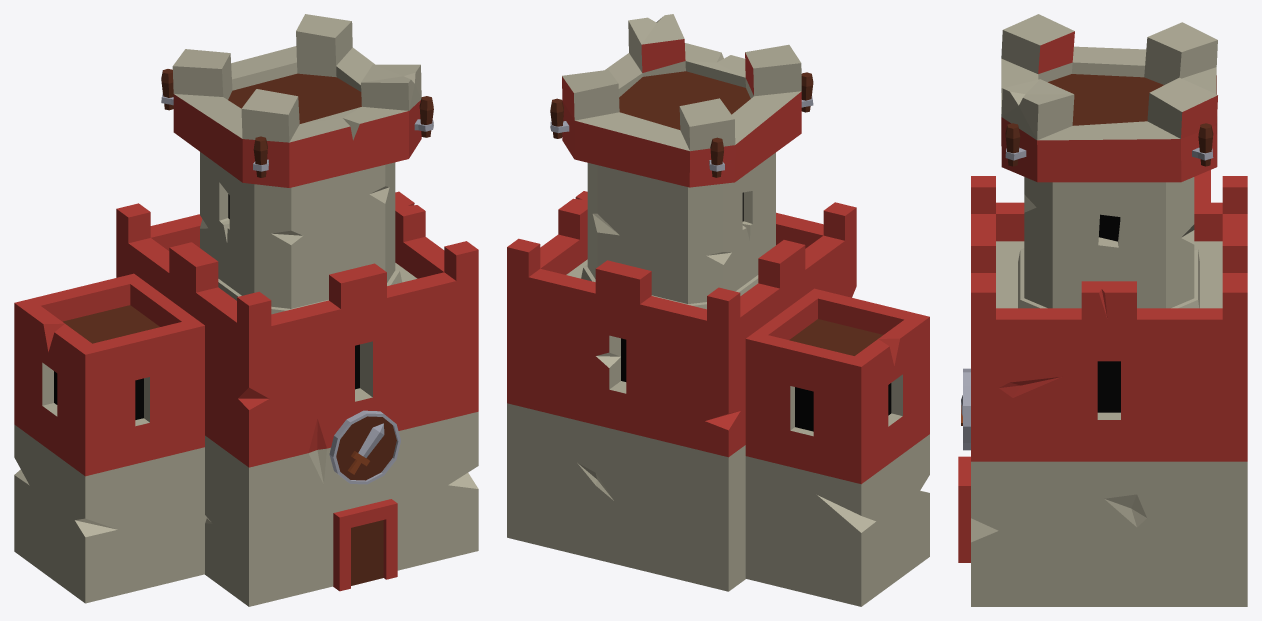
File: Tower_002FBX.fbx
3 renders of one model, left to right at view 1: azimuth 30°, elevation 25°; view 2: azimuth 150°, elevation 25°; view 3: azimuth 270°, elevation 25°, orthographic. The views are drawn at different scales.
Visible parts, largest first — view 1: Cube, Cube_002, Cube_001, Cylinder_001, Cylinder; view 2: Cube, Cube_002, Cube_001, Cylinder; view 3: Cube, Cube_001, Cylinder, Cylinder_001, Cube_002.
Boxes of the visible parts, left/top/right/bottom form: Cube: left=116, top=191, right=478, bottom=606; Cube_002: left=14, top=273, right=206, bottom=603; Cube_001: left=172, top=14, right=421, bottom=314; Cylinder_001: left=329, top=410, right=400, bottom=484; Cylinder: left=161, top=69, right=433, bottom=177; Cube: left=507, top=191, right=856, bottom=591; Cube_002: left=745, top=288, right=929, bottom=606; Cube_001: left=562, top=14, right=801, bottom=309; Cylinder: left=550, top=72, right=813, bottom=177; Cube: left=958, top=176, right=1247, bottom=606; Cube_001: left=1001, top=14, right=1217, bottom=308; Cylinder: left=1005, top=123, right=1213, bottom=166; Cylinder_001: left=961, top=368, right=970, bottom=450; Cube_002: left=1194, top=170, right=1210, bottom=202.
Bounding box in the file's own units: 4.96 × 6.38 × 3.41.
